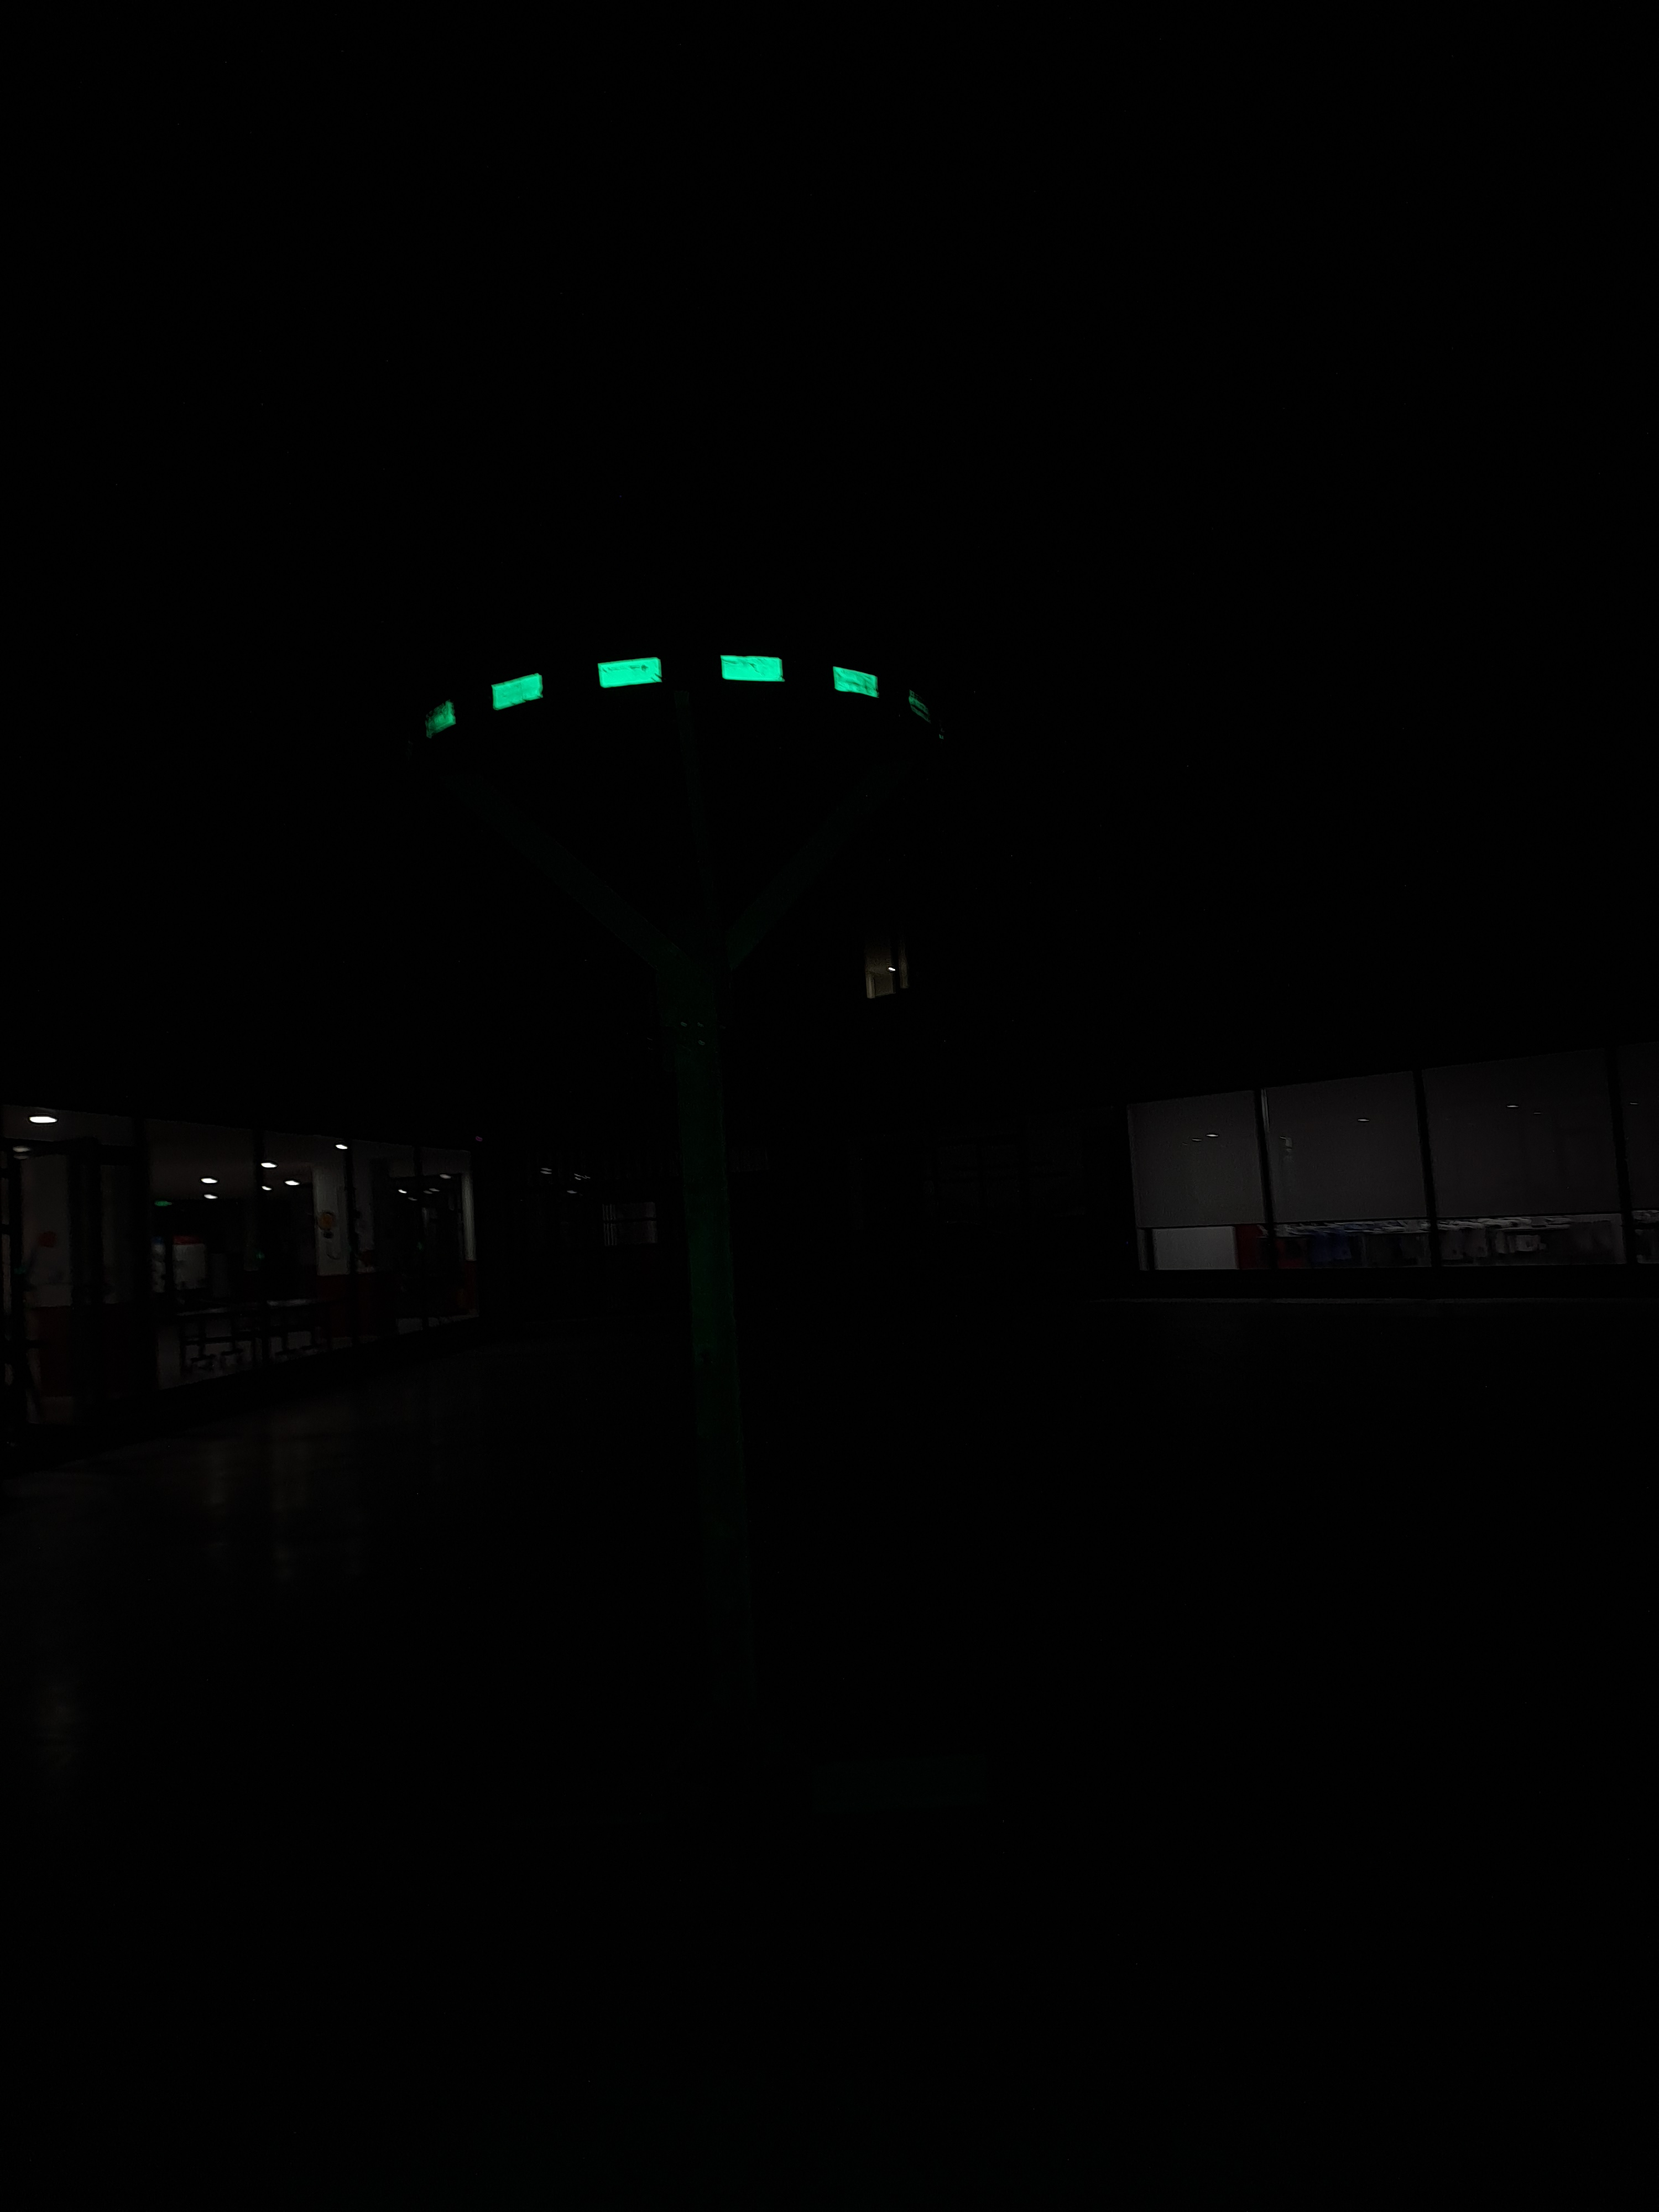hoop: (420, 641, 884, 751)
